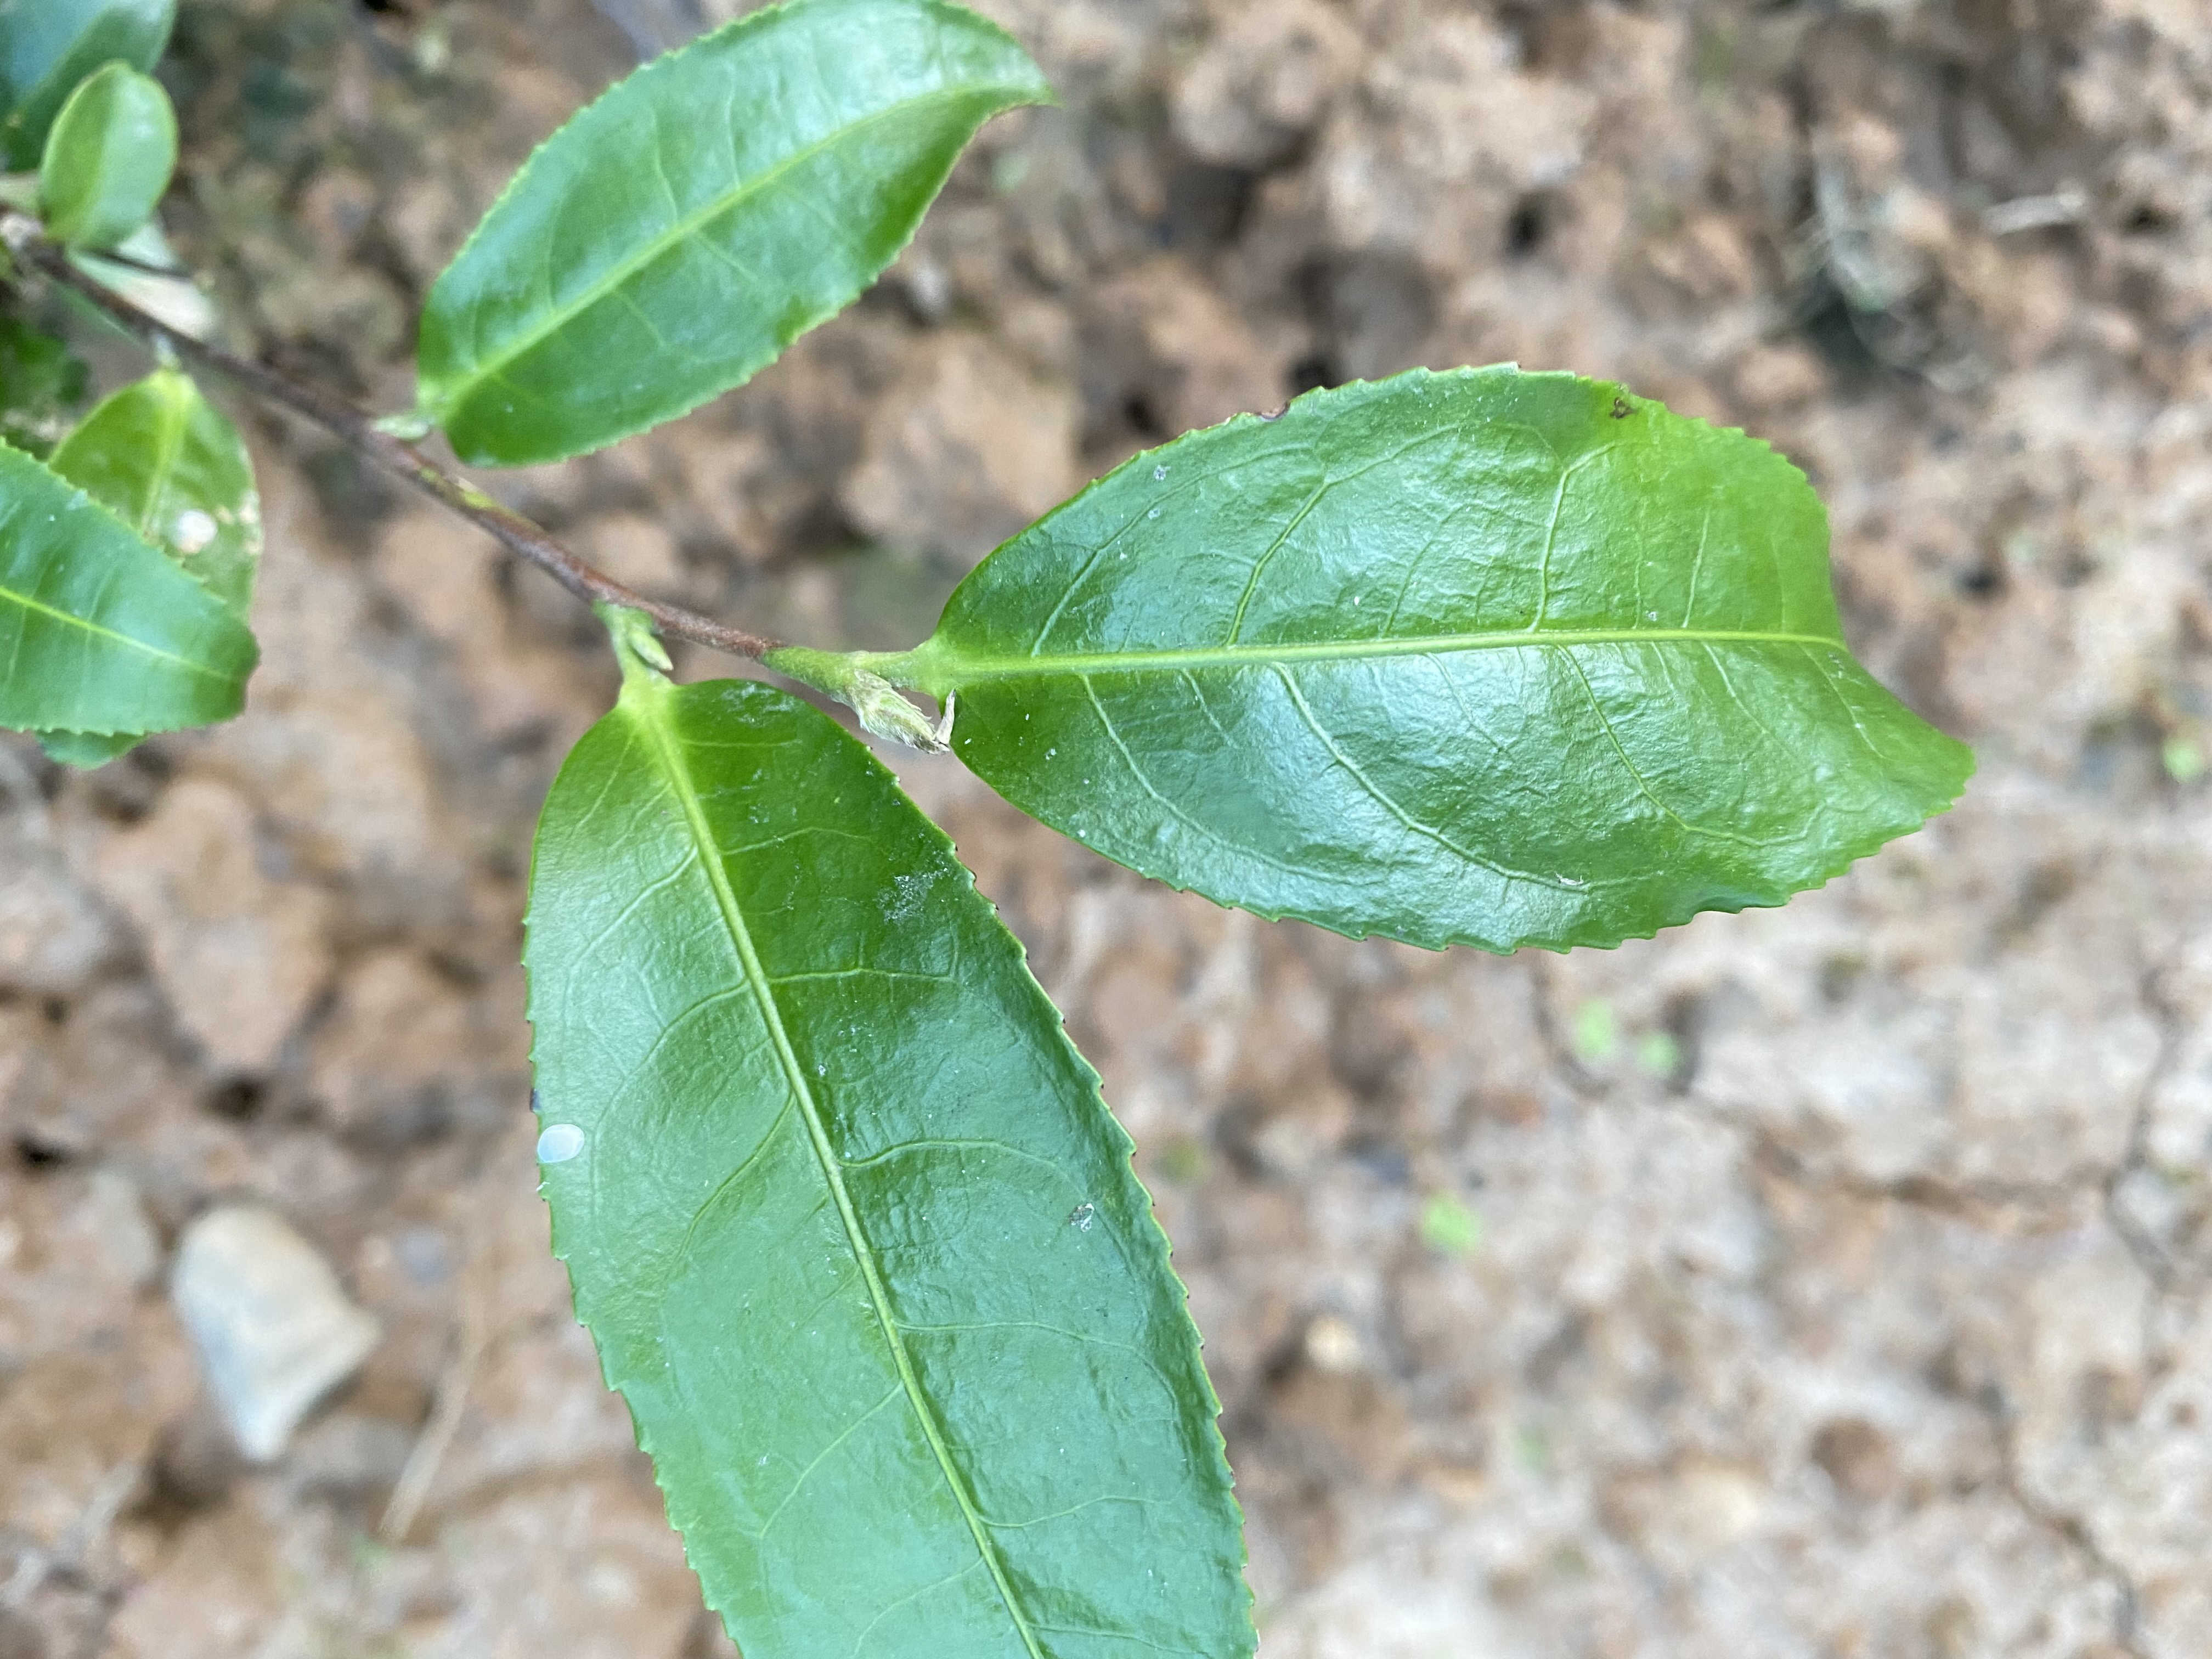chabing_low: (30, 371, 263, 770)
healthy: (411, 2, 1066, 467)
tanju_low: (517, 676, 1261, 1657), (932, 357, 1975, 958)
